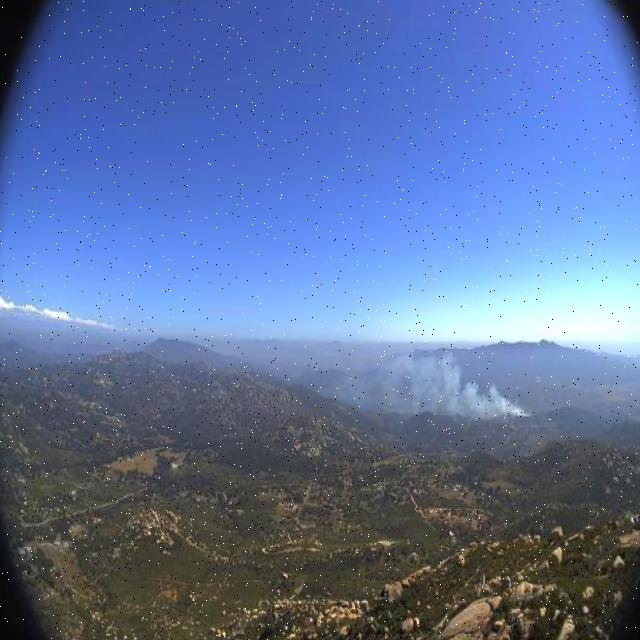smoke: (300, 326, 528, 424)
